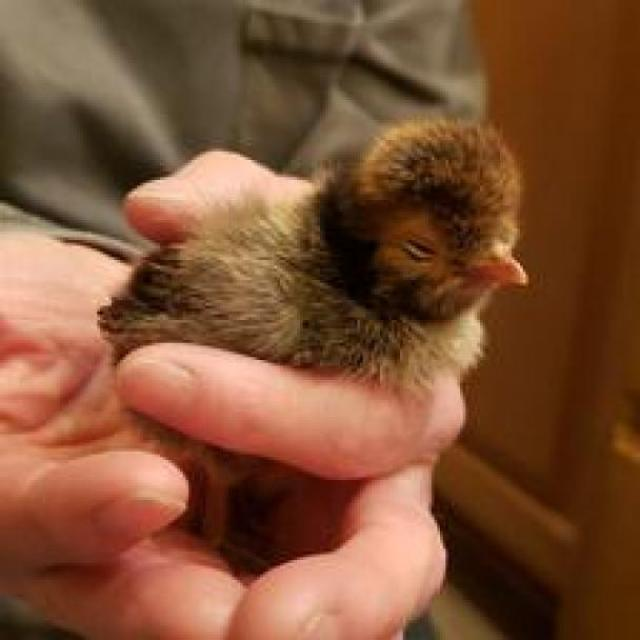Chicken: (112, 106, 542, 507)
